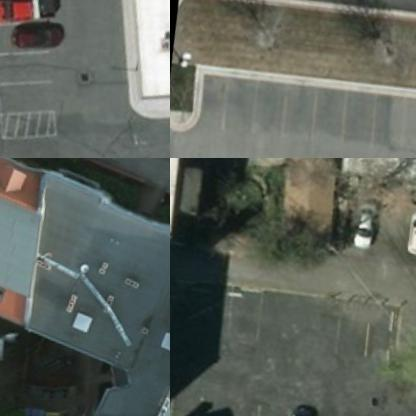car: (0, 0, 58, 34), (5, 18, 63, 52), (345, 202, 382, 254), (400, 210, 415, 263), (276, 400, 315, 415)
